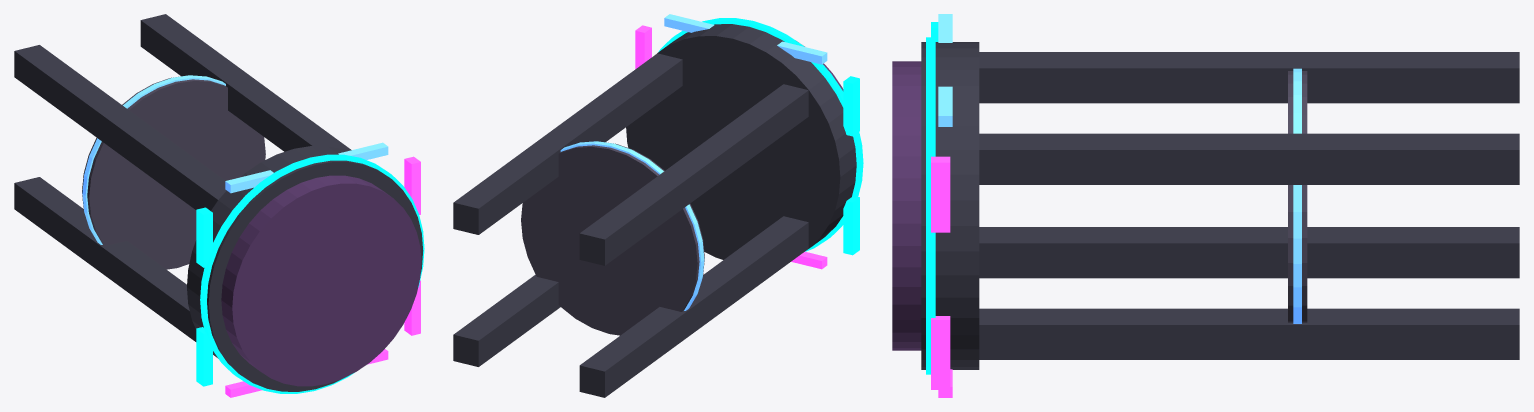
The model's file is round_barstool.glb.
3 renders of one model, left to right at view 1: azimuth 30°, elevation 25°; view 2: azimuth 150°, elevation 25°; view 3: azimuth 270°, elevation 25°, orthographic. The views are drawn at different scales.
Visible parts, largest first — view 1: seat_cushion, footrest_ring, leg_2, seat_base, leg_0, leg_3, seat_ring_trim, footrest_glow, rear_trim, left_side_trim_rear, left_side_trim_front, right_side_trim_rear (+2 smaller); view 2: seat_base, footrest_ring, leg_2, leg_0, leg_3, leg_1, seat_ring_trim, rear_trim, footrest_glow, left_side_trim_rear, left_side_trim_front, right_side_trim_rear (+1 smaller); view 3: leg_3, leg_1, leg_2, leg_0, seat_base, seat_cushion, seat_ring_trim, footrest_ring, footrest_glow, right_side_trim_rear, right_side_trim_front, rear_trim.
Part boxes in pixels (box(x1,y1,x2,y2)): seat_cushion: box(221, 175, 421, 386); footrest_ring: box(82, 75, 265, 269); leg_2: box(14, 45, 226, 210); seat_base: box(187, 146, 423, 391); leg_0: box(14, 177, 216, 357); leg_3: box(140, 14, 351, 151); seat_ring_trim: box(200, 154, 424, 393); footrest_glow: box(82, 75, 225, 244); rear_trim: box(225, 142, 388, 193); left_side_trim_rear: box(196, 207, 212, 267); left_side_trim_front: box(196, 327, 212, 386); right_side_trim_rear: box(404, 156, 420, 214); seat_base: box(626, 24, 856, 259); footrest_ring: box(521, 141, 704, 335); leg_2: box(579, 84, 808, 265); leg_0: box(579, 216, 808, 397); leg_3: box(453, 53, 682, 234); leg_1: box(453, 275, 560, 366); seat_ring_trim: box(658, 18, 863, 251); rear_trim: box(664, 14, 827, 64); footrest_glow: box(560, 141, 704, 310); left_side_trim_rear: box(843, 76, 859, 136); left_side_trim_front: box(843, 196, 859, 255); right_side_trim_rear: box(635, 25, 651, 68); leg_3: box(979, 133, 1519, 184); leg_1: box(979, 308, 1519, 359); leg_2: box(979, 52, 1519, 103); leg_0: box(979, 227, 1519, 278); seat_base: box(921, 42, 979, 369); seat_cushion: box(892, 61, 921, 350); seat_ring_trim: box(926, 37, 935, 374); footrest_ring: box(1288, 71, 1307, 322); footrest_glow: box(1293, 68, 1301, 323); right_side_trim_rear: box(931, 156, 950, 232); right_side_trim_front: box(931, 316, 950, 389); rear_trim: box(938, 14, 952, 126).
Bounding box in the file's own units: 0.7 × 0.7 × 1.3.
